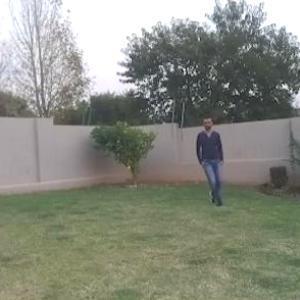follow: (196, 111, 227, 211)
